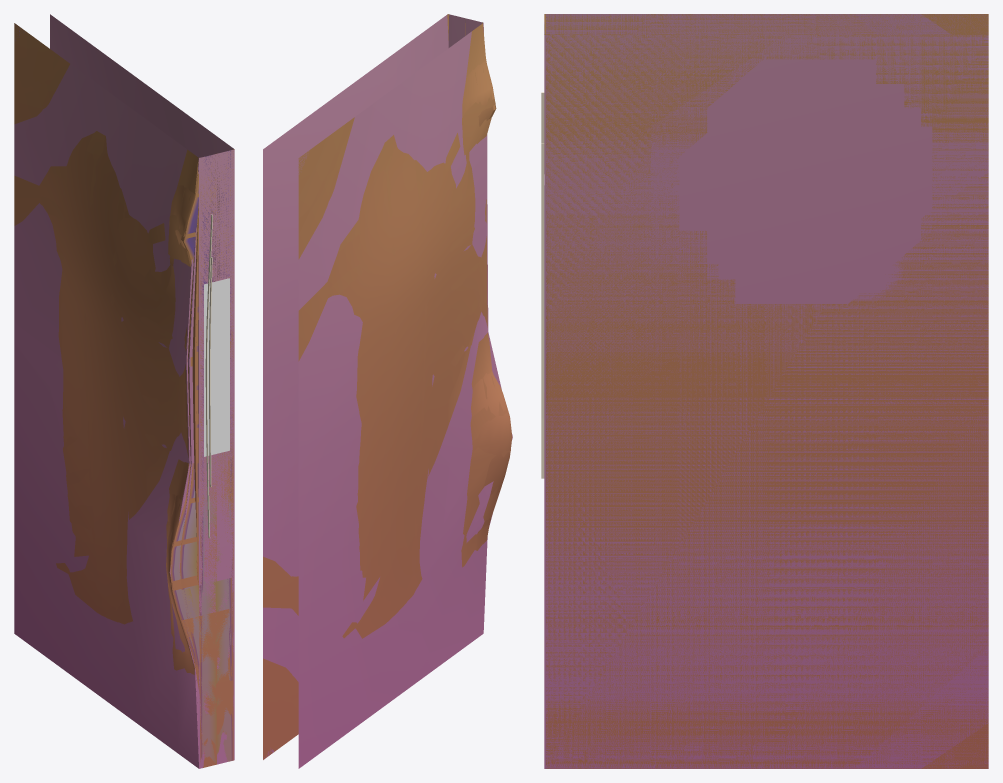
File: Kit_DoorLeafBreak_Steel_DA_M1.fbx
3 views of the same model, side by side, from view 1: azimuth 30°, elevation 25°; view 2: azimuth 150°, elevation 25°; view 3: azimuth 270°, elevation 25° (orthographic). The views are drawn at different scales.
Parts seen in each view (by area): view 1: cas_TORN_L2, cas_TORN_L0, cas_TORN_L1, cas_D1_L2, cas_M_L1, cas_D1_L0, cas_D2_L0, cas_M_L0, cas_D1_L1, cas_D2_L2, cas_D2_L1, leak_D2 (+1 smaller); view 2: cas_TORN_L2, cas_TORN_L0, cas_TORN_L1; view 3: cas_D1_L2, cas_M_L0, cas_M_L1, cas_D2_L2, cas_D1_L1, leak_D1.
Boxes of the visible parts, left/top/right/bottom form: cas_TORN_L2: left=14, top=14, right=234, bottom=768; cas_TORN_L0: left=14, top=31, right=232, bottom=760; cas_TORN_L1: left=14, top=43, right=230, bottom=767; cas_D1_L2: left=198, top=149, right=234, bottom=768; cas_M_L1: left=200, top=149, right=233, bottom=767; cas_D1_L0: left=14, top=23, right=232, bottom=763; cas_D2_L0: left=180, top=207, right=233, bottom=761; cas_M_L0: left=200, top=151, right=233, bottom=763; cas_D1_L1: left=15, top=24, right=233, bottom=767; cas_D2_L2: left=14, top=24, right=234, bottom=764; cas_D2_L1: left=181, top=309, right=229, bottom=765; leak_D2: left=205, top=214, right=212, bottom=538; cas_TORN_L2: left=263, top=14, right=512, bottom=768; cas_TORN_L0: left=263, top=18, right=512, bottom=751; cas_TORN_L1: left=263, top=14, right=510, bottom=739; cas_D1_L2: left=544, top=14, right=988, bottom=768; cas_M_L0: left=544, top=14, right=988, bottom=768; cas_M_L1: left=544, top=14, right=988, bottom=768; cas_D2_L2: left=854, top=14, right=988, bottom=768; cas_D1_L1: left=921, top=14, right=988, bottom=768; leak_D1: left=541, top=143, right=544, bottom=418.
Bounding box in the file's own units: 0.0801 × 0.72 × 0.3975.
